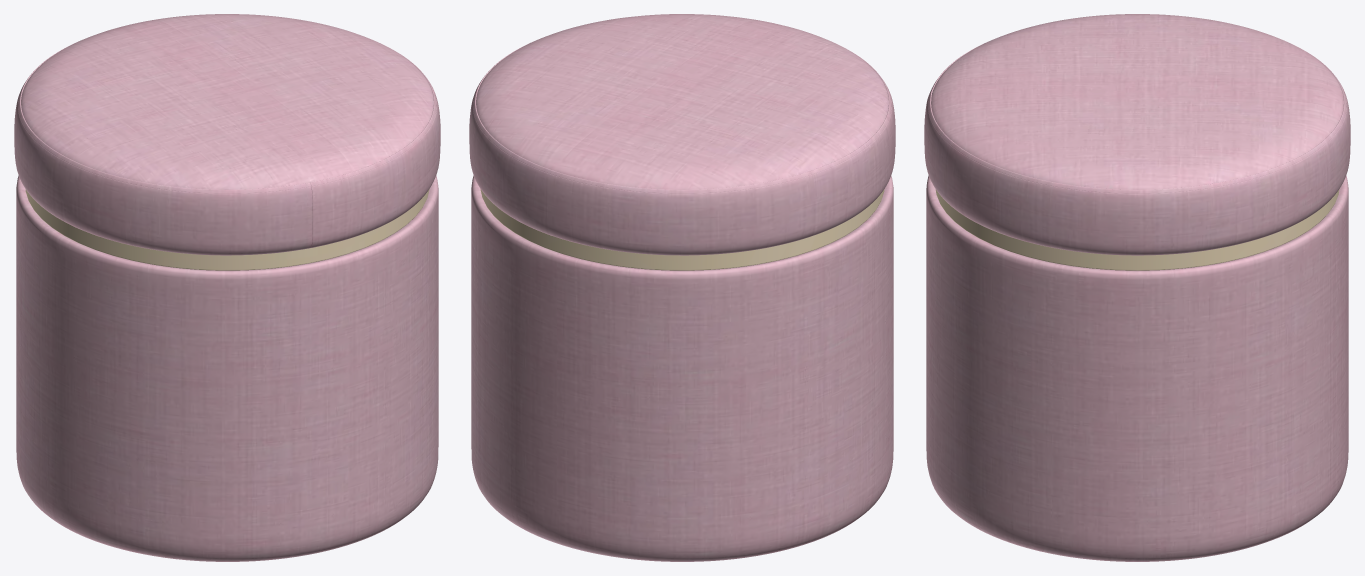
Rendered from abo-B07QBMQH5B.glb.
3 views of the same model, side by side, from view 1: azimuth 30°, elevation 25°; view 2: azimuth 150°, elevation 25°; view 3: azimuth 270°, elevation 25° (orthographic).
Bounding box in the file's own units: 0.4 × 0.406 × 0.4.
1 material, 1 textured.
